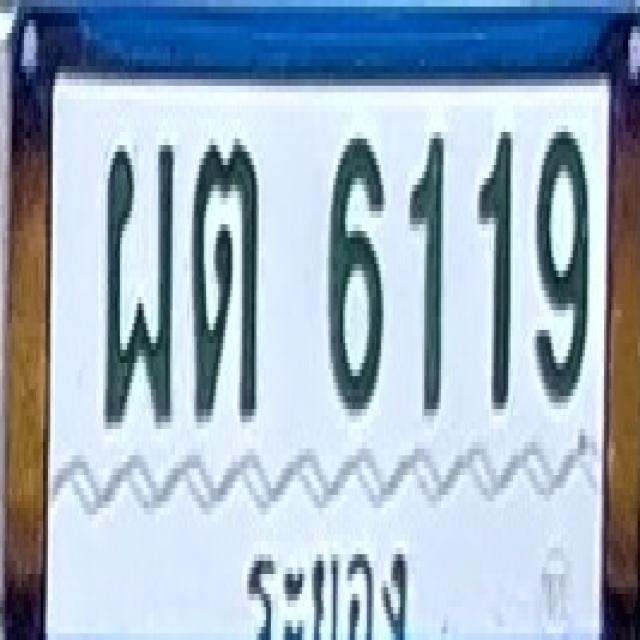1: (476, 122, 512, 406), (408, 129, 443, 412)
6: (328, 132, 384, 409)
9: (535, 122, 587, 399)
A21: (192, 135, 259, 419)
A28: (104, 135, 174, 426)
RYG: (236, 523, 414, 640)
